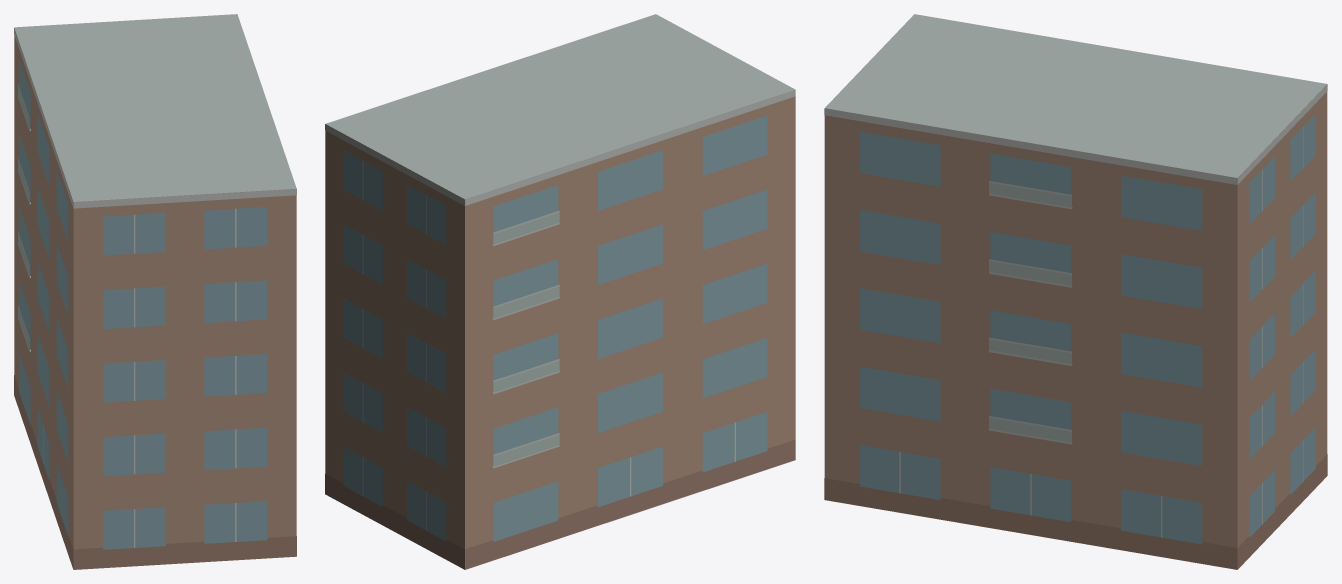
The model's file is survey-upis-32878032.glb.
3 views of the same model, side by side, from view 1: azimuth 30°, elevation 25°; view 2: azimuth 150°, elevation 25°; view 3: azimuth 270°, elevation 25° (orthographic). The views are drawn at different scales.
Parts seen in each view (by area): view 1: survey-upis-32878032.tmp; view 2: survey-upis-32878032.tmp; view 3: survey-upis-32878032.tmp.
Boxes of the visible parts, bbox=[...] form: survey-upis-32878032.tmp: bbox=[14, 14, 296, 569]; survey-upis-32878032.tmp: bbox=[325, 14, 795, 569]; survey-upis-32878032.tmp: bbox=[824, 14, 1327, 569].
Size of the model in its own units: 12.22 by 13.6 by 15.83.
